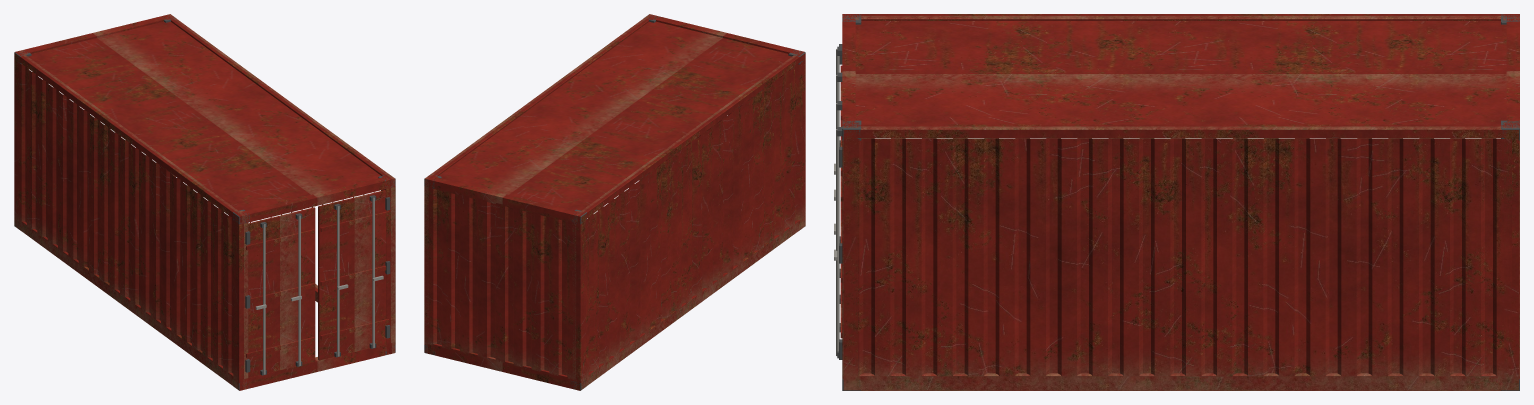
File: container_red.glb
The picture shows the model from 3 angles, left to right: view 1: azimuth 30°, elevation 25°; view 2: azimuth 150°, elevation 25°; view 3: azimuth 270°, elevation 25°; orthographic projection. The views are drawn at different scales.
Parts seen in each view (by area): view 1: model; view 2: model; view 3: model.
Boxes of the visible parts, x1,y1,x2,y2 form: model: (14, 14, 395, 390); model: (424, 14, 805, 390); model: (834, 14, 1519, 390).
Size of the model in its own units: 2.44 by 2.59 by 6.13.
3 materials, 1 textured.
